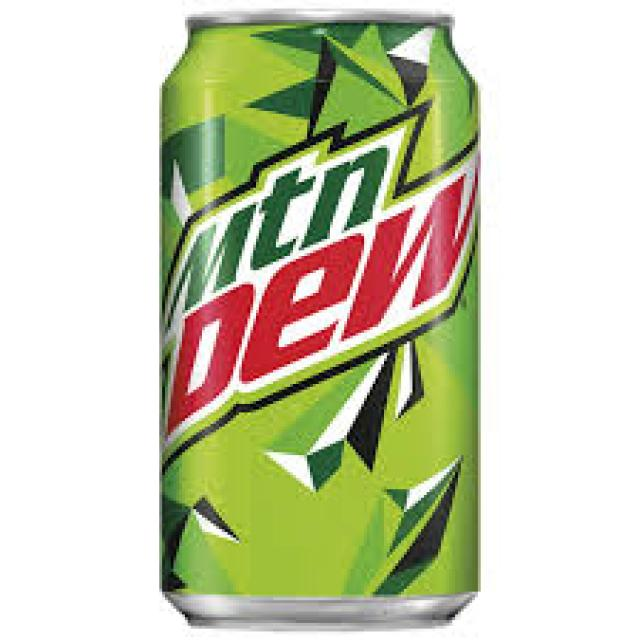Cans: (142, 3, 492, 637)
